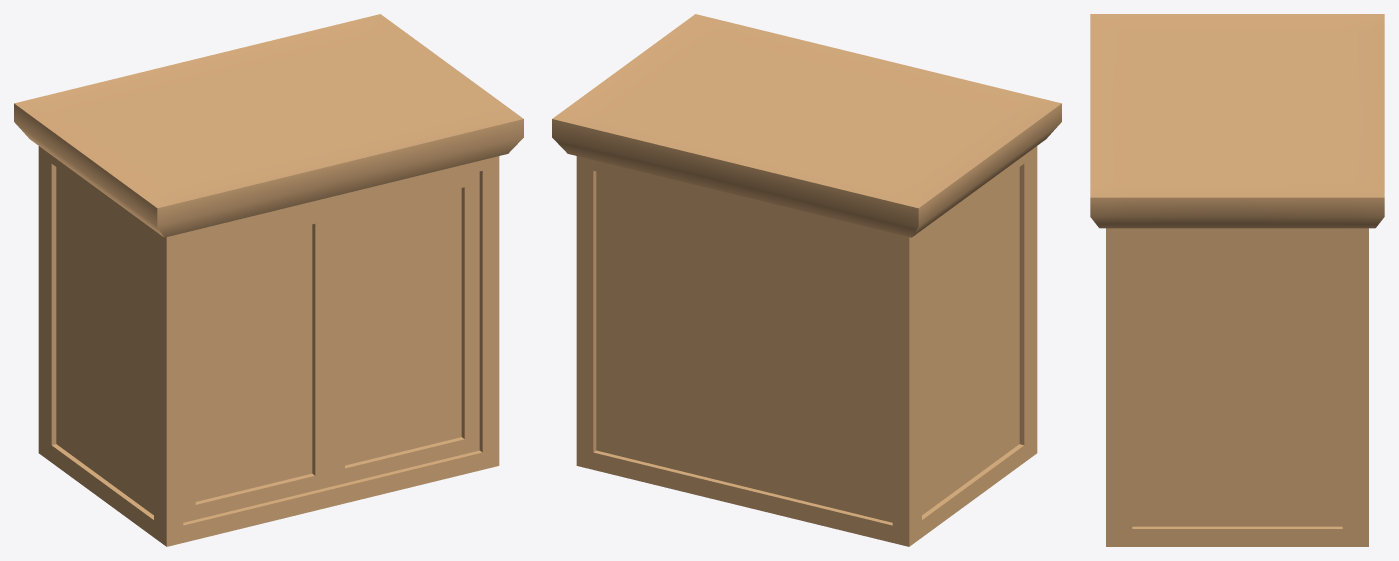
The model's file is Cabinet.fbx.
The picture shows the model from 3 angles, left to right: view 1: azimuth 30°, elevation 25°; view 2: azimuth 150°, elevation 25°; view 3: azimuth 270°, elevation 25°; orthographic projection. The views are drawn at different scales.
Visible parts, largest first — view 1: pCube1; view 2: pCube1; view 3: pCube1.
Part boxes in pixels (x1,y1,x2,y2): pCube1: (14, 14, 523, 546); pCube1: (552, 14, 1061, 546); pCube1: (1090, 14, 1384, 546).
Bounding box in the file's own units: 16.54 × 15.02 × 11.21.
